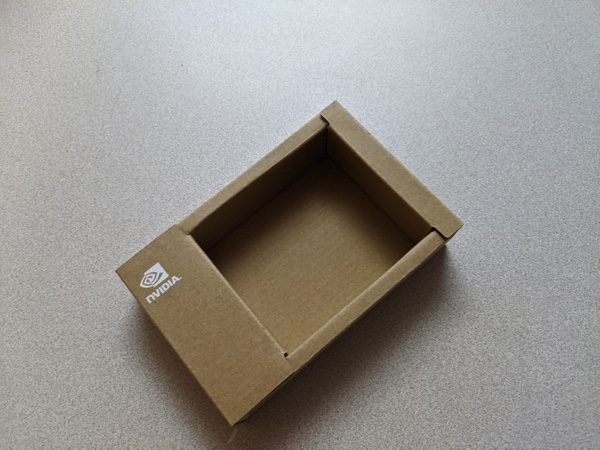cardboard: (96, 90, 495, 445)
